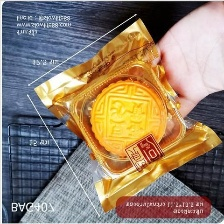snack: (29, 14, 224, 217)
